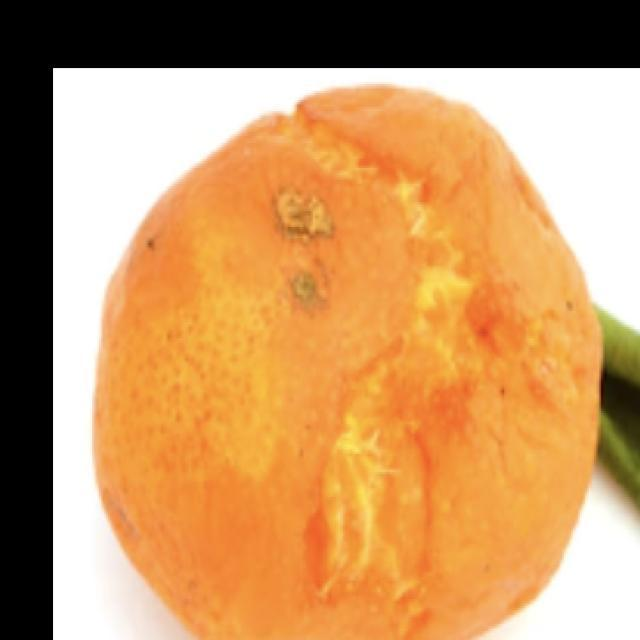sedikit-busuk: (94, 87, 600, 639)
